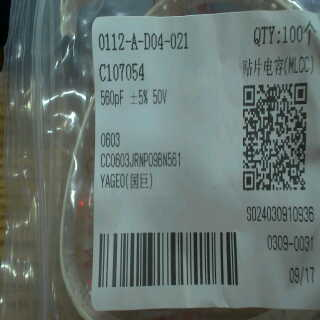560pF: (97, 89, 130, 113)
